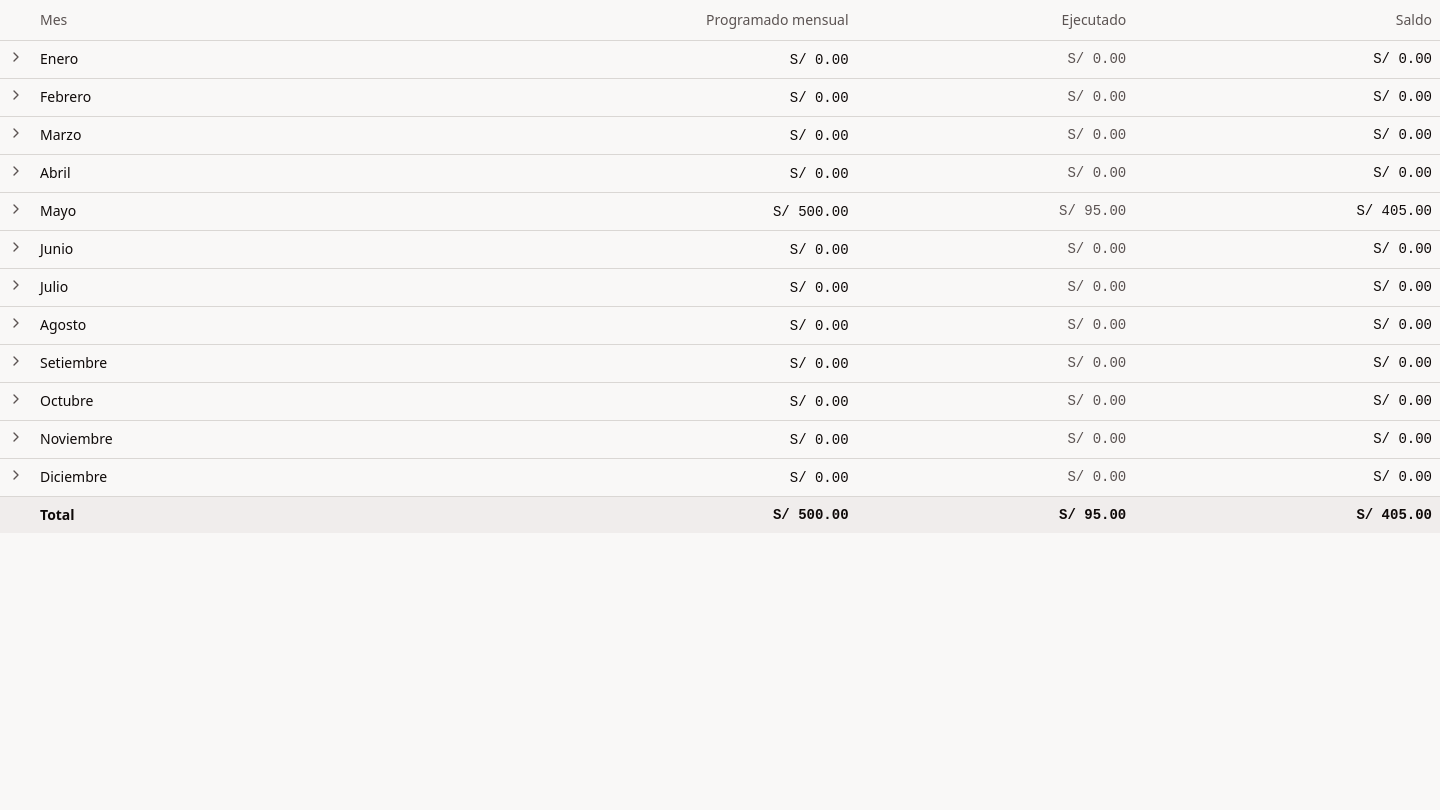
Test: MonthlyTable › renders canonical paid and rendition winners once, with only authorized request links
Click the text "Mayo". click: (58, 210)
box: 32,192 -> 328,230
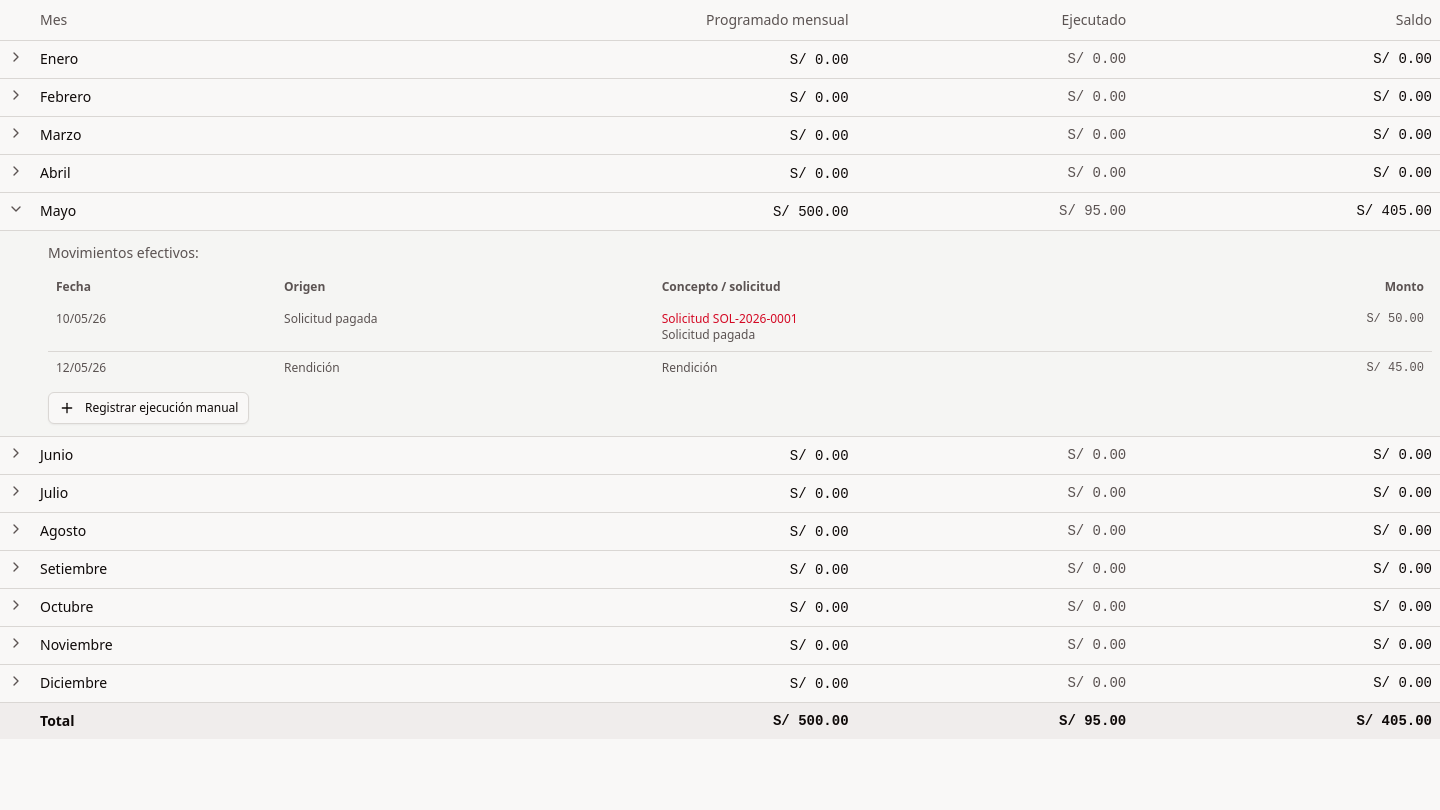
Check: the table named "Movimientos de Mayo" is shown, box 48,270 -> 1432,384
Check: the column heading "Origen" is shown, box 276,270 -> 654,302
Check: the number of links named "Ver Solicitud" is 1, box 662,310 -> 798,326
